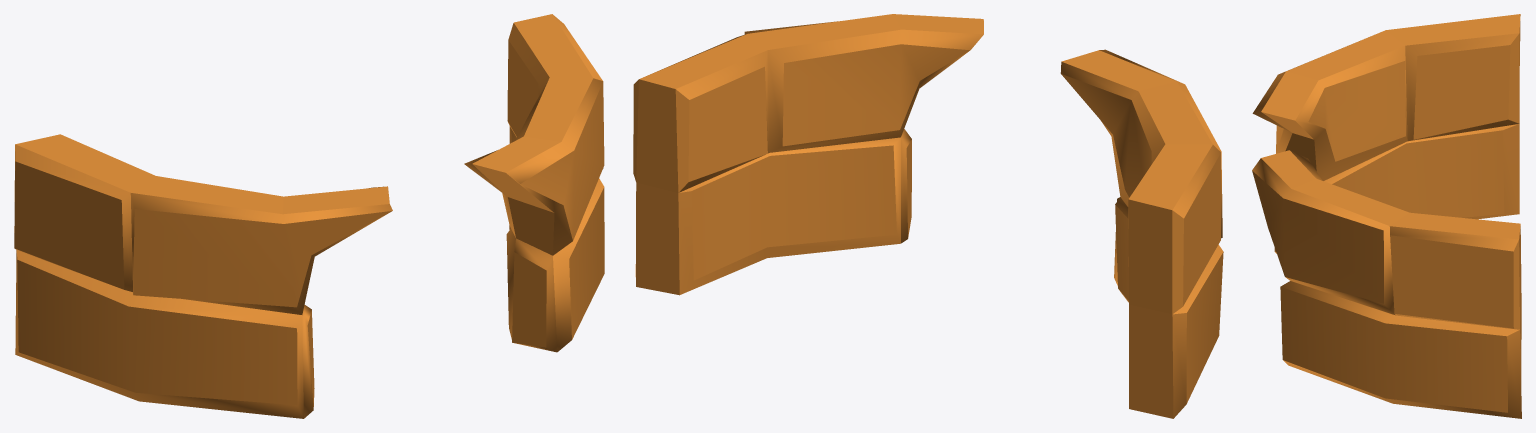
Rendered from mudBrickKilnSectionWithOpening.glb.
The picture shows the model from 3 angles, left to right: view 1: azimuth 30°, elevation 25°; view 2: azimuth 150°, elevation 25°; view 3: azimuth 270°, elevation 25°; orthographic projection. The views are drawn at different scales.
Visible parts, largest first — view 1: Cube; view 2: Cube; view 3: Cube.
Boxes of the visible parts, x1,y1,x2,y2 form: Cube: [14, 14, 604, 418]; Cube: [633, 14, 1223, 418]; Cube: [1252, 14, 1521, 418].
Size of the model in its own units: 2.01 by 0.7329 by 0.9874.
